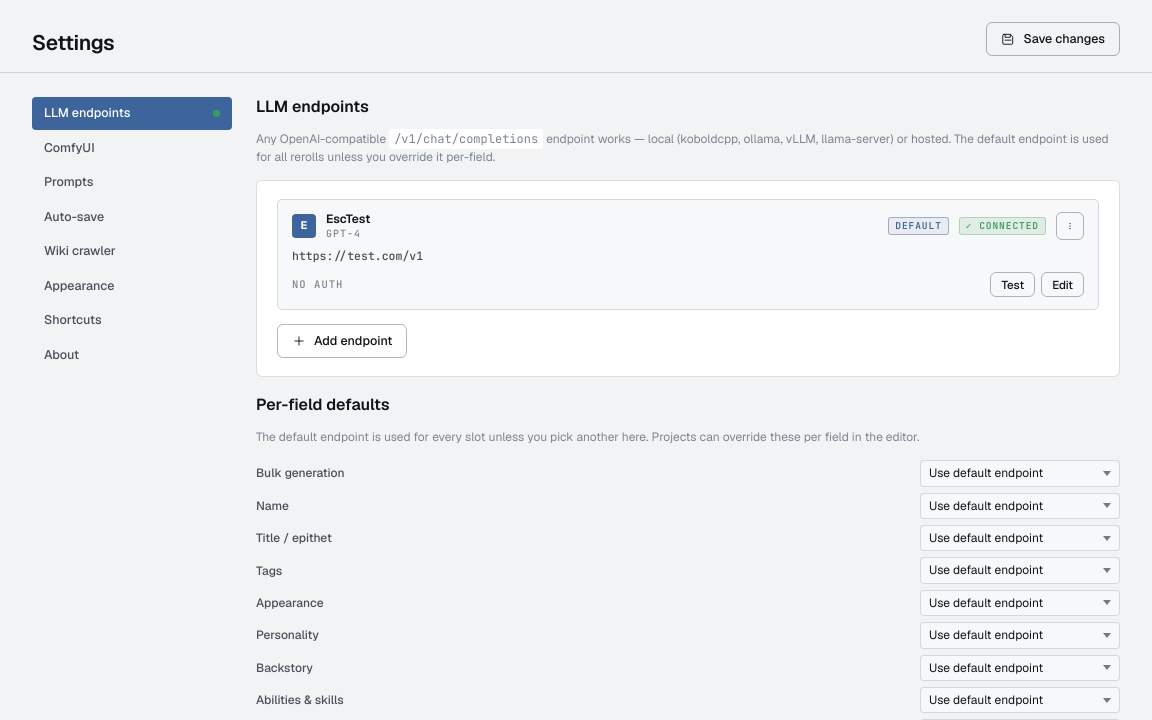
Scenario: SettingsScreen › closes more menu on Escape
The width and height of the screenshot is (1152, 720).
Click the button named "More actions" at (1070, 226), box 1056,212 -> 1084,240
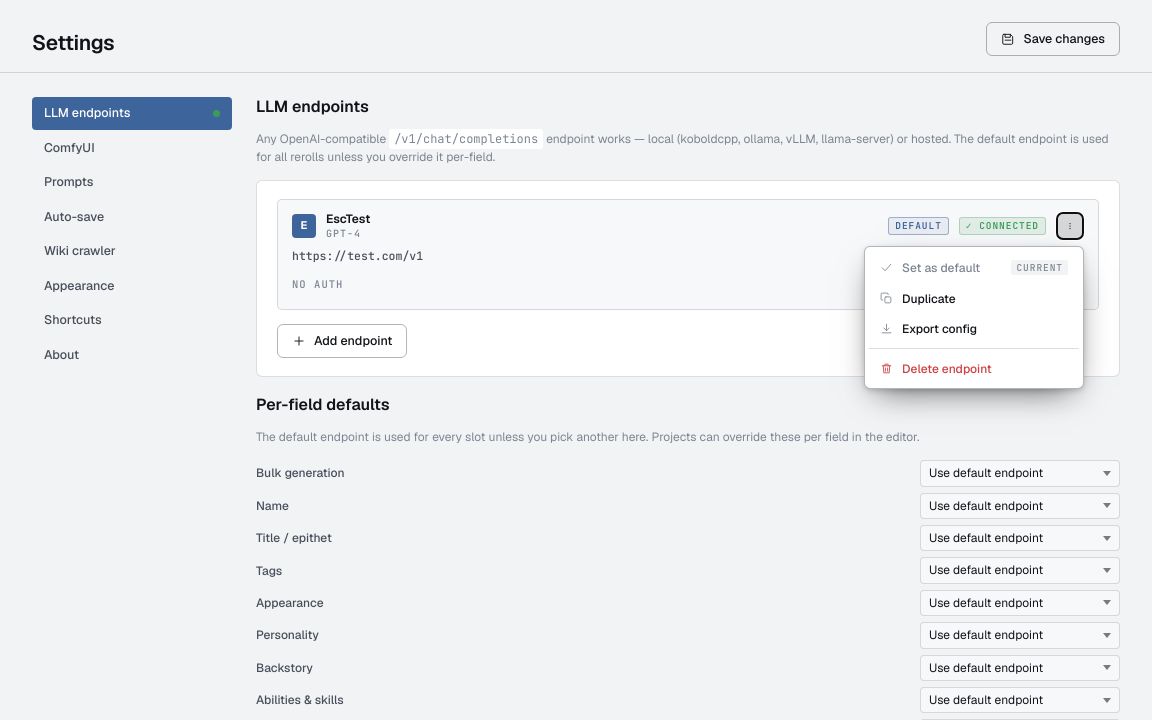
Expected: the menu item "Delete endpoint" is shown, 870,354 -> 1078,383
Press Escape
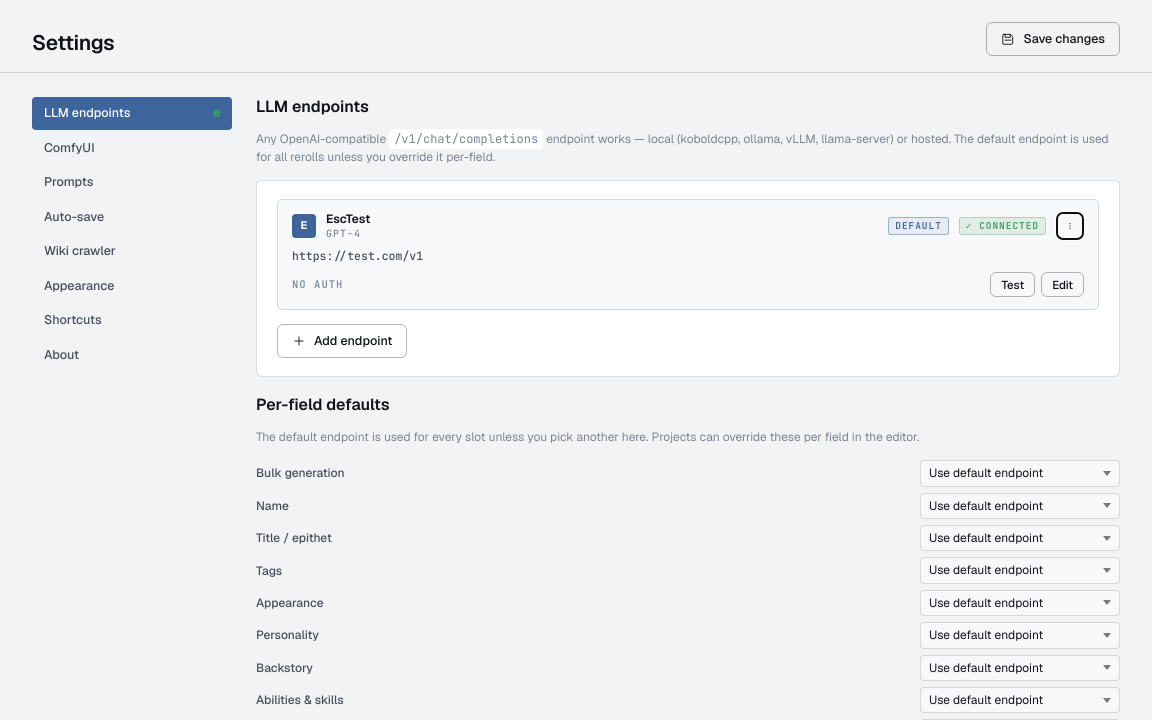
Expected: the menu item "Delete endpoint" is gone
